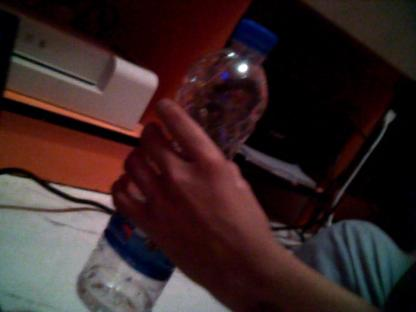Plastic Bottle: (66, 22, 288, 312)
